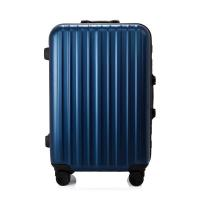luggage: (41, 18, 158, 186)
